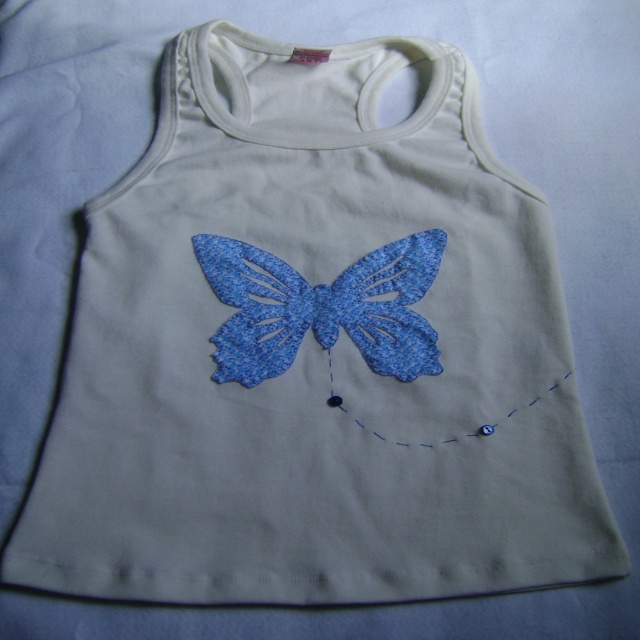Butterfly: (188, 220, 457, 391)
